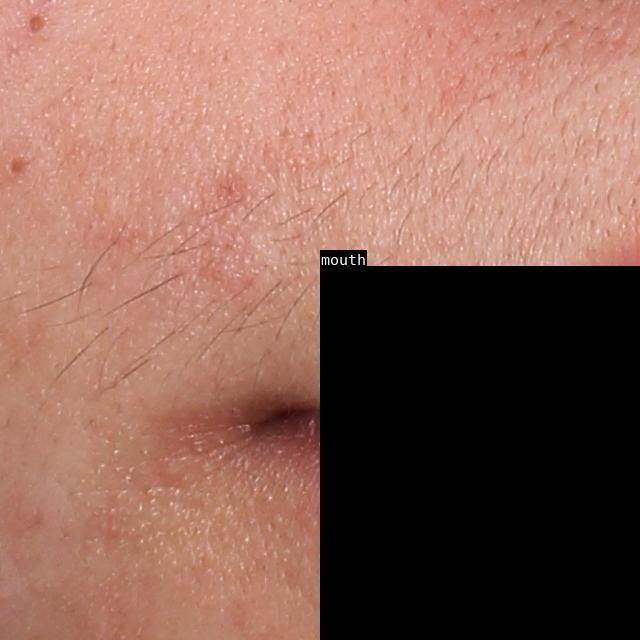comedo: (23, 13, 50, 35), (6, 154, 28, 177)
